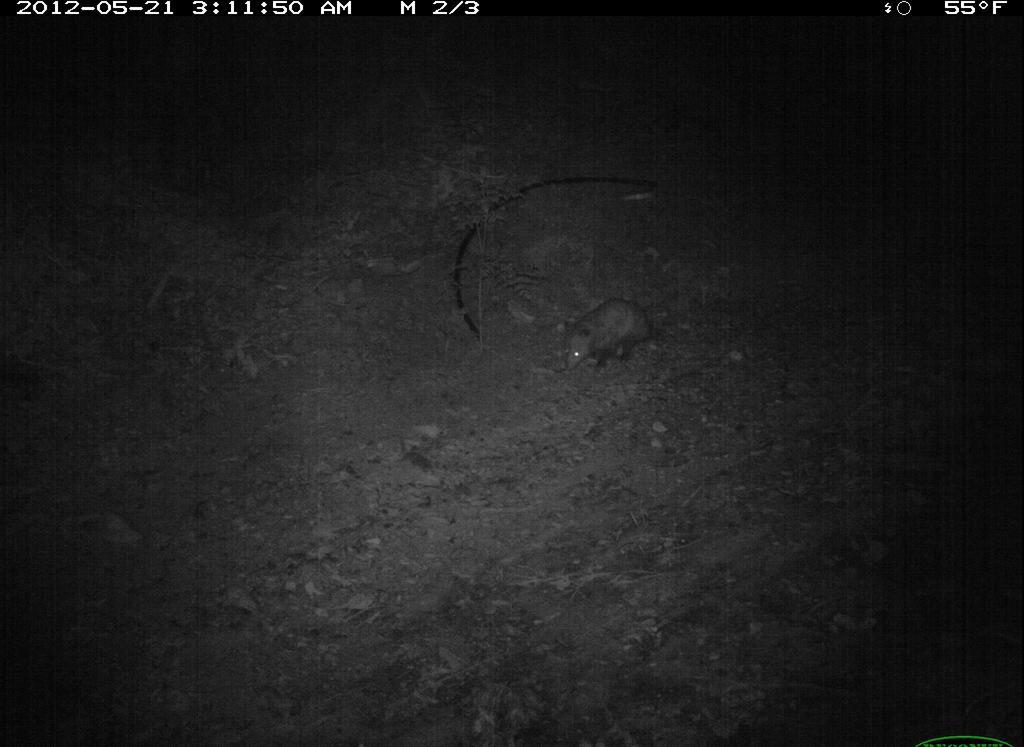opossum: (557, 285, 671, 381)
